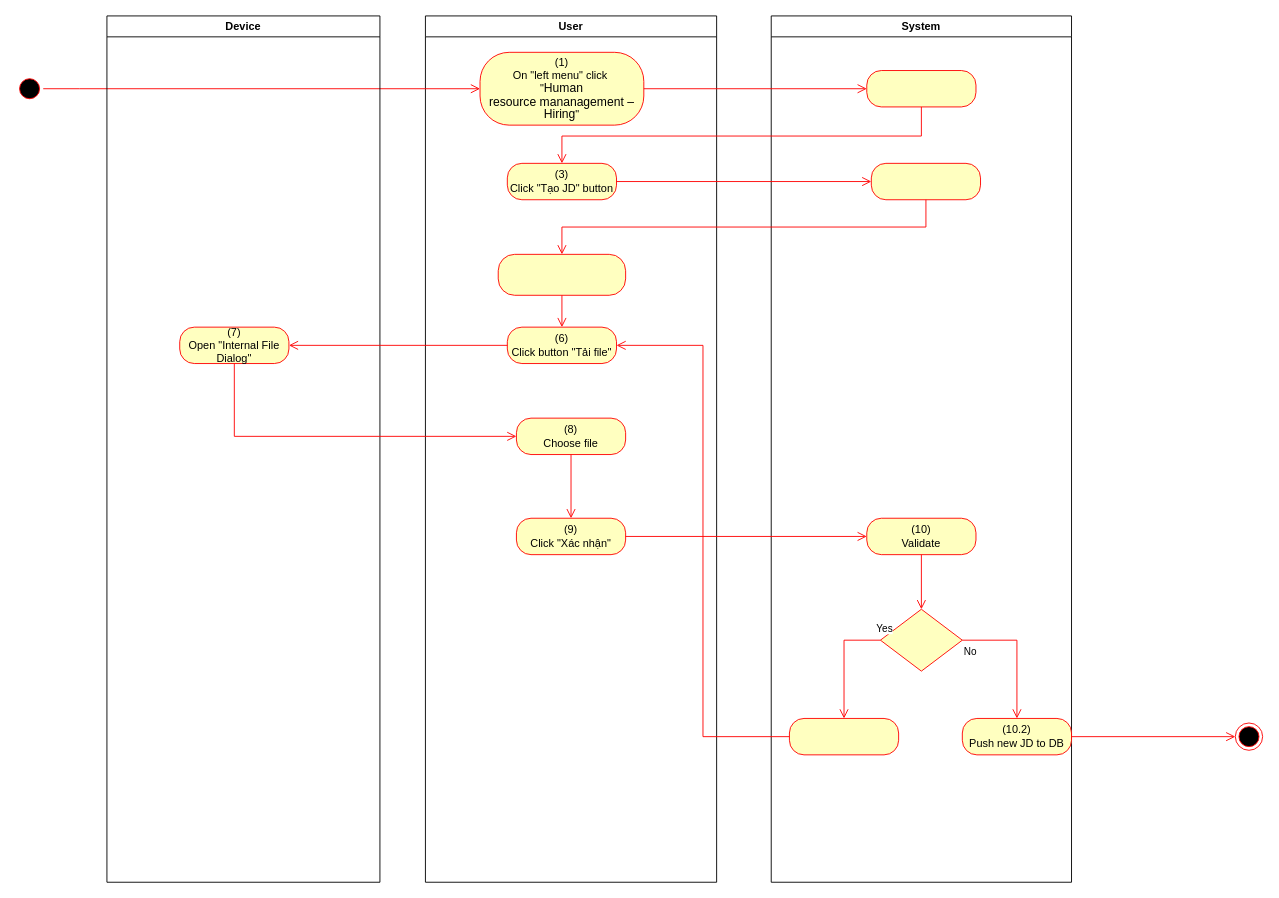
The diagram is 1279 pixels wide and 898 high, and some of its shapes have lost their labels. Each missing label, with the centre of its shape:
(10.1) Show MSG: pixel 844 736
(2) Load "Hiring" screen: pixel 921 88
(4) Load "Add JD form": pixel 925 181
(5) Click Checkbox "Bạn muốn tải file lên?": pixel 561 274
Receive MSG: pixel 921 639
